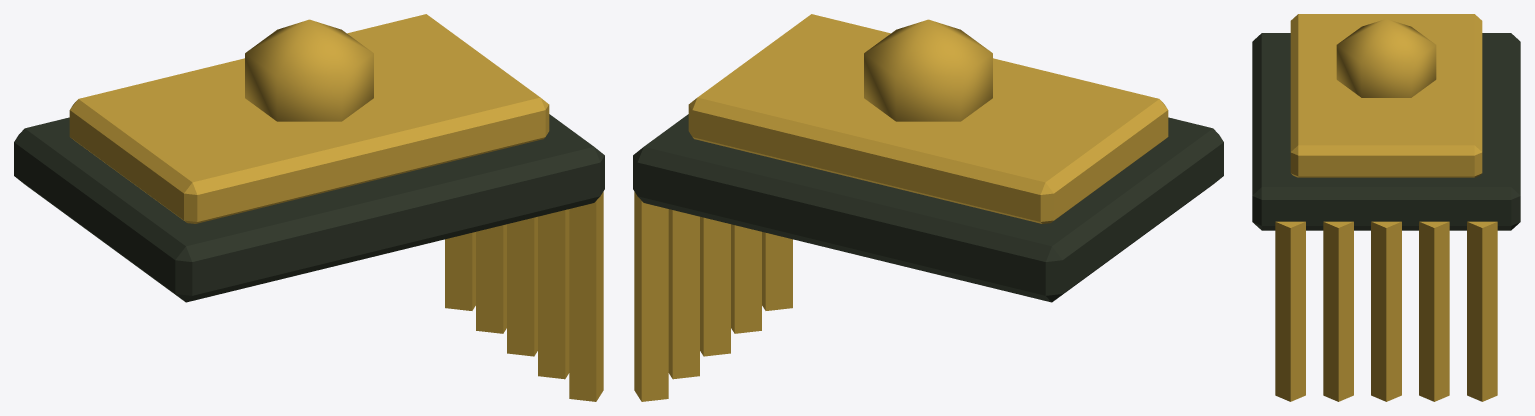
File: epaulette.glb
3 renders of one model, left to right at view 1: azimuth 30°, elevation 25°; view 2: azimuth 150°, elevation 25°; view 3: azimuth 270°, elevation 25°, orthographic. The views are drawn at different scales.
Visible parts, largest first — view 1: part.epaulette; view 2: part.epaulette; view 3: part.epaulette.
Boxes of the visible parts, <box> form: part.epaulette: <box>14,14,604,401</box>; part.epaulette: <box>633,14,1223,401</box>; part.epaulette: <box>1252,14,1520,401</box>.
Size of the model in its own units: 0.208 by 0.17 by 0.14.
